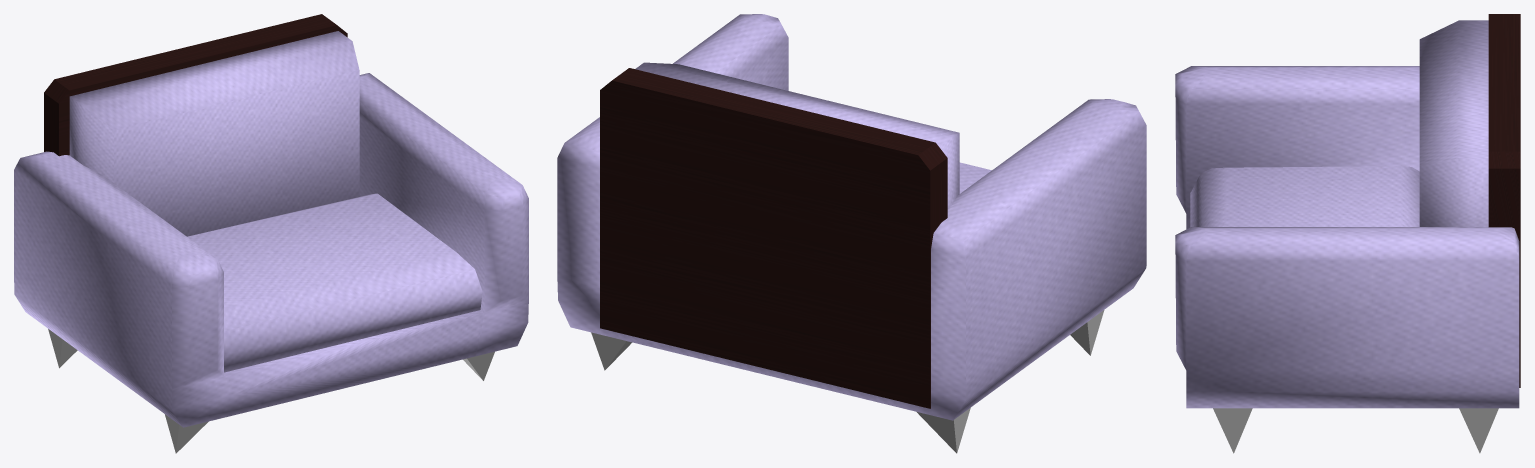
Rendered from Armchair_E_2.FBX.
The picture shows the model from 3 angles, left to right: view 1: azimuth 30°, elevation 25°; view 2: azimuth 150°, elevation 25°; view 3: azimuth 270°, elevation 25°; orthographic projection. The views are drawn at different scales.
Visible parts, largest first — view 1: Flatback_Chair; view 2: Flatback_Chair; view 3: Flatback_Chair.
Boxes of the visible parts, x1,y1,x2,y2 form: Flatback_Chair: (14, 14, 528, 453); Flatback_Chair: (557, 14, 1146, 453); Flatback_Chair: (1175, 14, 1520, 453).
Size of the model in its own units: 214 by 157 by 170.
